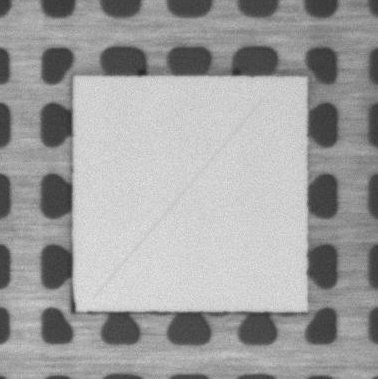DIE_CRACK: (93, 100, 261, 299)
